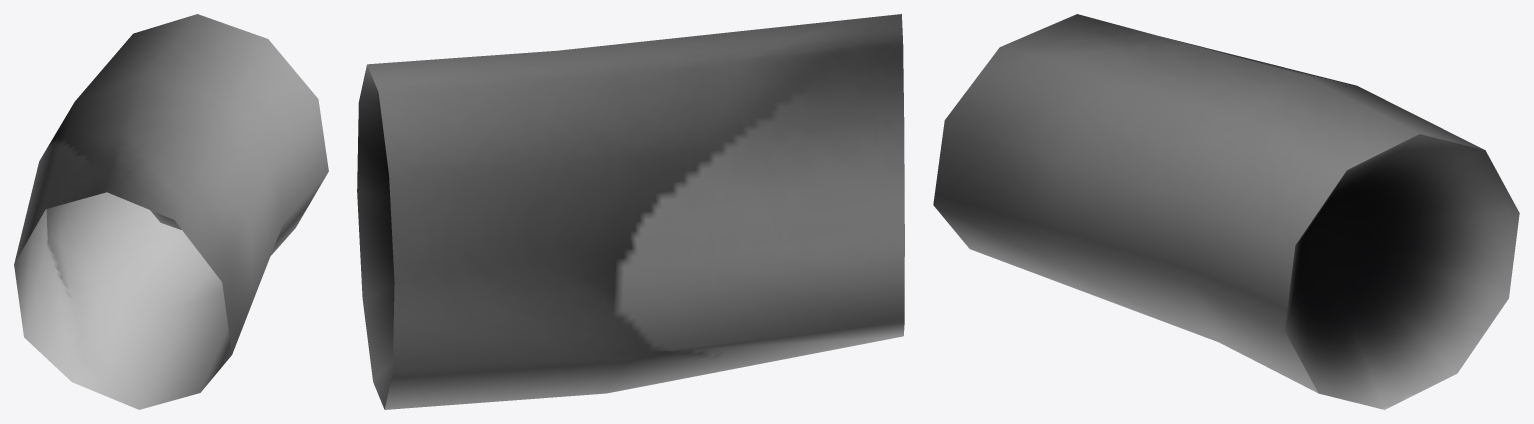
File: Olschool_1_Sidepanel_2_L.fbx
3 renders of one model, left to right at view 1: azimuth 30°, elevation 25°; view 2: azimuth 150°, elevation 25°; view 3: azimuth 270°, elevation 25°, orthographic. The views are drawn at different scales.
Parts seen in each view (by area): view 1: Olschool_1_Sidepanel_2_L; view 2: Olschool_1_Sidepanel_2_L; view 3: Olschool_1_Sidepanel_2_L.
Part boxes in pixels (<box>): Olschool_1_Sidepanel_2_L: <box>14,14,328,409</box>; Olschool_1_Sidepanel_2_L: <box>357,14,904,409</box>; Olschool_1_Sidepanel_2_L: <box>933,14,1519,409</box>.
Bounding box in the file's own units: 88 × 53.43 × 107.
